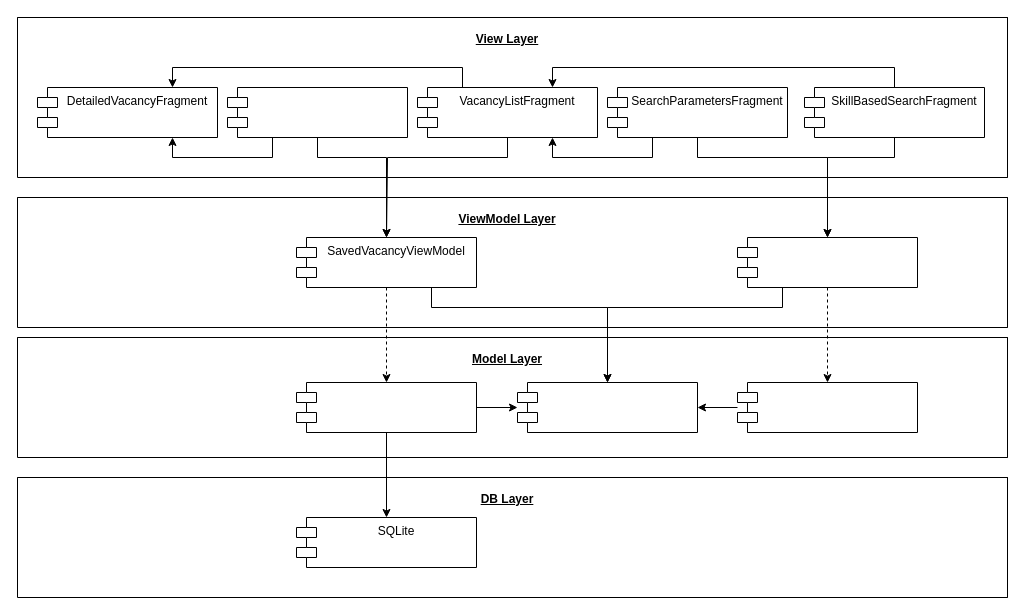
Some shapes in this 1025 by 615 pixel diagram are drawn without their labels. Each missing label, with the centre of its shape:
SavedVacanciesFragment: the point at 317,112
Vacancy: the point at 607,407
VacancyApiService: the point at 827,407
VacancyDao: the point at 386,407
VacancyViewModel: the point at 827,262
